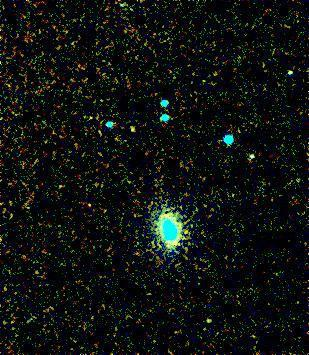star: (120, 114, 150, 144)
